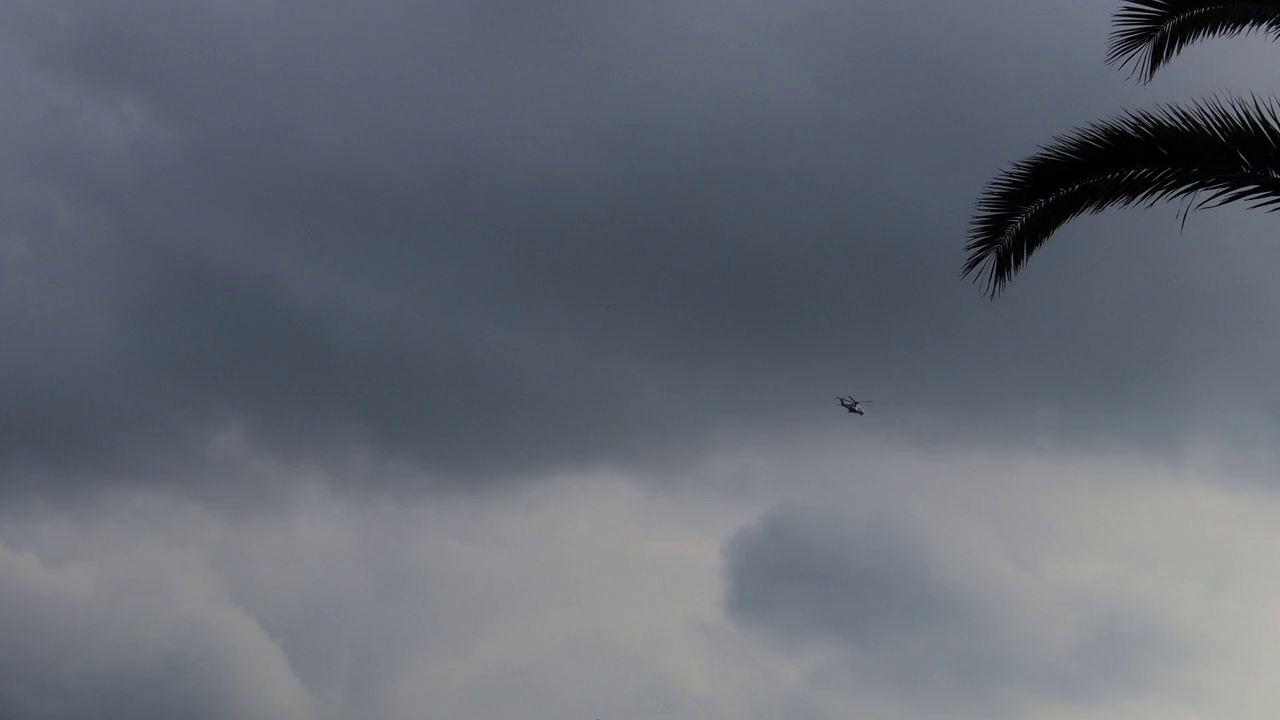heli: (834, 394, 874, 415)
